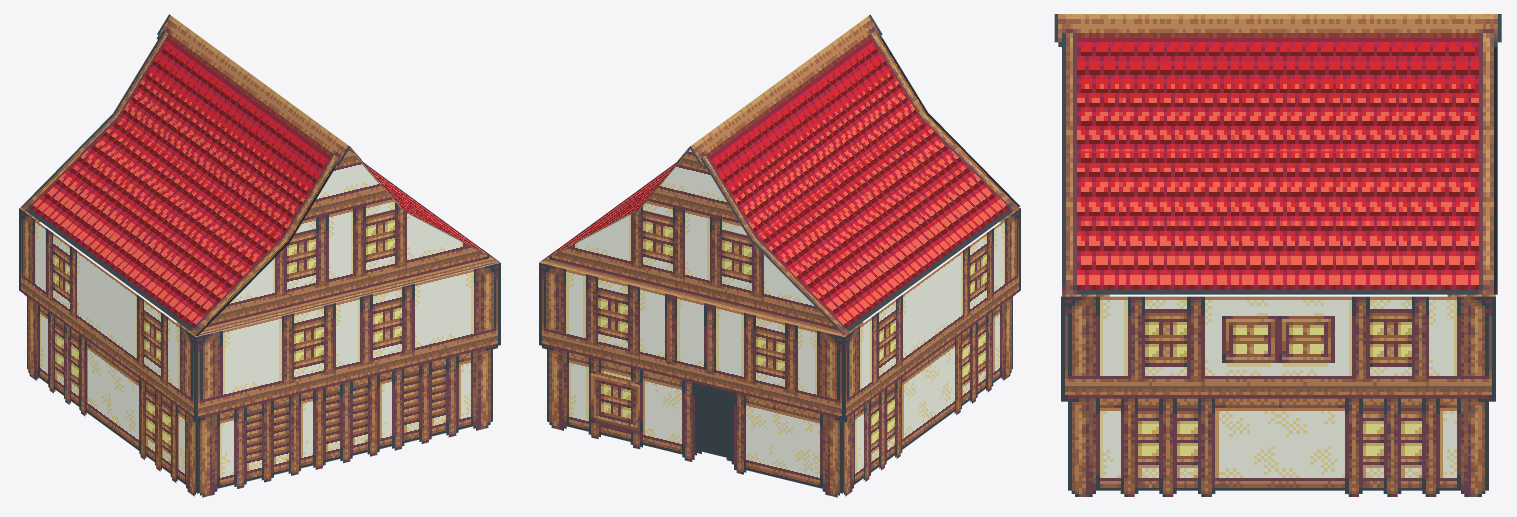
The model's file is Store_1.gltf.
3 renders of one model, left to right at view 1: azimuth 30°, elevation 25°; view 2: azimuth 150°, elevation 25°; view 3: azimuth 270°, elevation 25°, orthographic. The views are drawn at different scales.
Bounding box in the file's own units: 8 × 7.75 × 8.
Materials: 2 (2 with a texture image).
